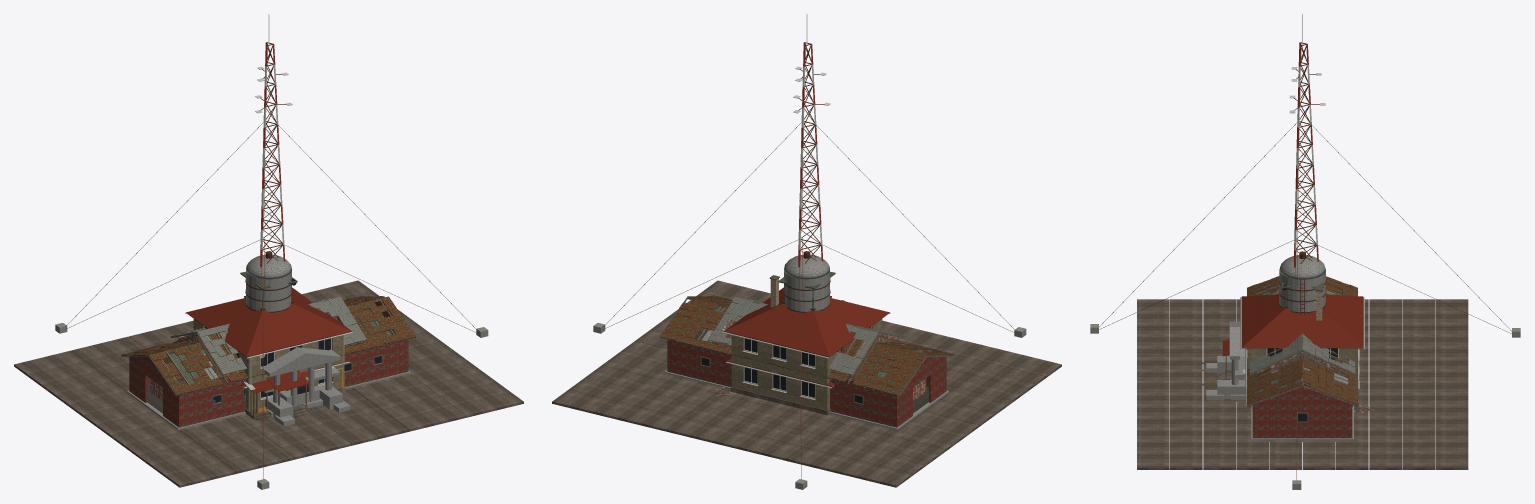
The model's file is props.glb.
3 renders of one model, left to right at view 1: azimuth 30°, elevation 25°; view 2: azimuth 150°, elevation 25°; view 3: azimuth 270°, elevation 25°, orthographic.
Parts seen in each view (by area): view 1: concrete_pad, barn_long, house_cottage_roof, club, radio_mast, house_cottage, silo_conc, bunker_entrance; view 2: concrete_pad, barn_long, house_cottage, house_cottage_roof, radio_mast, club, silo_conc, barn; view 3: concrete_pad, barn_long, house_cottage_roof, radio_mast, club, silo_conc, house_cottage, bunker_entrance, barn.
Part boxes in pixels (x1=…): concrete_pad: x1=14, y1=280, x2=523, y2=487; barn_long: x1=121, y1=296, x2=416, y2=429; house_cottage_roof: x1=185, y1=287, x2=352, y2=358; club: x1=170, y1=296, x2=367, y2=417; radio_mast: x1=55, y1=14, x2=488, y2=489; house_cottage: x1=193, y1=319, x2=345, y2=417; silo_conc: x1=245, y1=251, x2=292, y2=312; bunker_entrance: x1=263, y1=368, x2=350, y2=426; concrete_pad: x1=552, y1=280, x2=1061, y2=487; barn_long: x1=659, y1=296, x2=954, y2=429; house_cottage: x1=730, y1=319, x2=882, y2=415; house_cottage_roof: x1=723, y1=275, x2=890, y2=358; radio_mast: x1=593, y1=14, x2=1026, y2=489; club: x1=708, y1=296, x2=905, y2=395; silo_conc: x1=783, y1=251, x2=830, y2=312; barn: x1=711, y1=332, x2=902, y2=378; concrete_pad: x1=1137, y1=299, x2=1468, y2=469; barn_long: x1=1202, y1=276, x2=1358, y2=441; house_cottage_roof: x1=1240, y1=287, x2=1364, y2=349; radio_mast: x1=1090, y1=14, x2=1520, y2=489; club: x1=1202, y1=290, x2=1374, y2=412; silo_conc: x1=1279, y1=251, x2=1326, y2=314; house_cottage: x1=1218, y1=339, x2=1359, y2=407; bunker_entrance: x1=1206, y1=355, x2=1246, y2=399; barn: x1=1254, y1=352, x2=1350, y2=379.
Bounding box in the file's own units: 40.37 × 38.75 × 38.89.
Materials: 94 (66 with a texture image).
